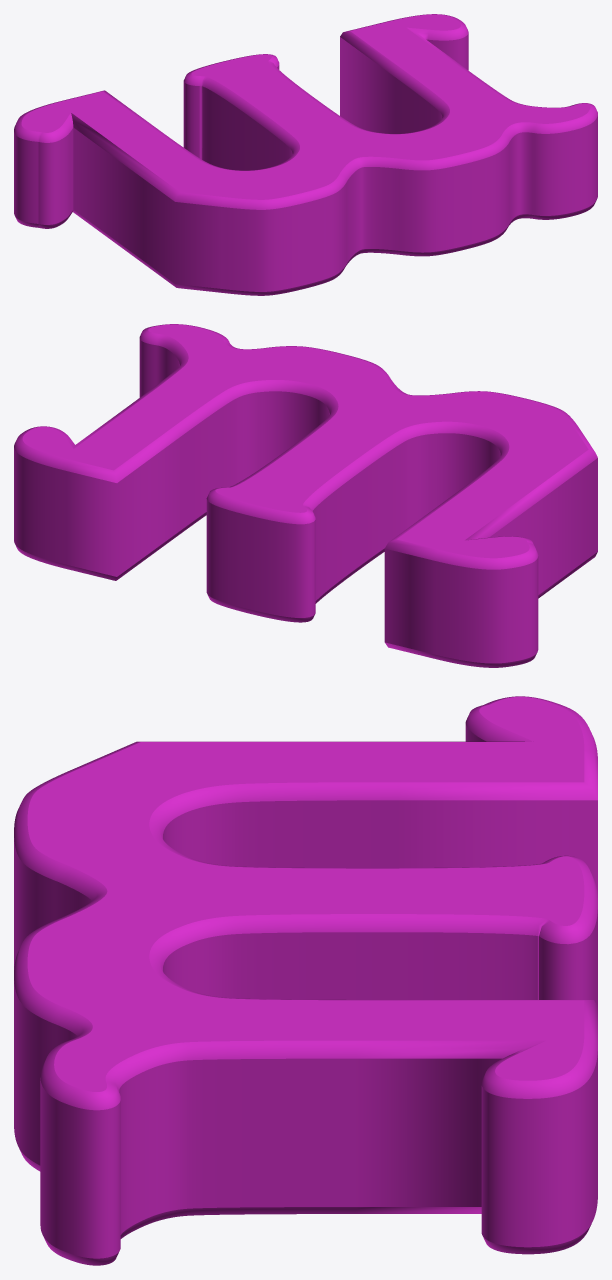
File: Letter_m_Small.fbx
The picture shows the model from 3 angles, top to bottom: view 1: azimuth 30°, elevation 25°; view 2: azimuth 150°, elevation 25°; view 3: azimuth 270°, elevation 25°; orthographic projection. The views are drawn at different scales.
Parts seen in each view (by area): view 1: Letter_m; view 2: Letter_m; view 3: Letter_m.
Part boxes in pixels (x1,y1,x2,y2): Letter_m: [14, 14, 597, 295]; Letter_m: [14, 324, 597, 667]; Letter_m: [14, 696, 597, 1265].
Size of the model in its own units: 0.7059 by 0.14 by 0.4282.
